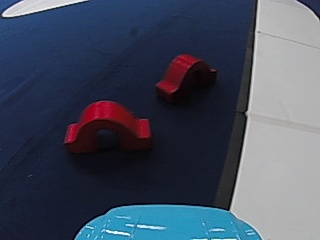bridge: (61, 97, 148, 154), (152, 49, 216, 105)
